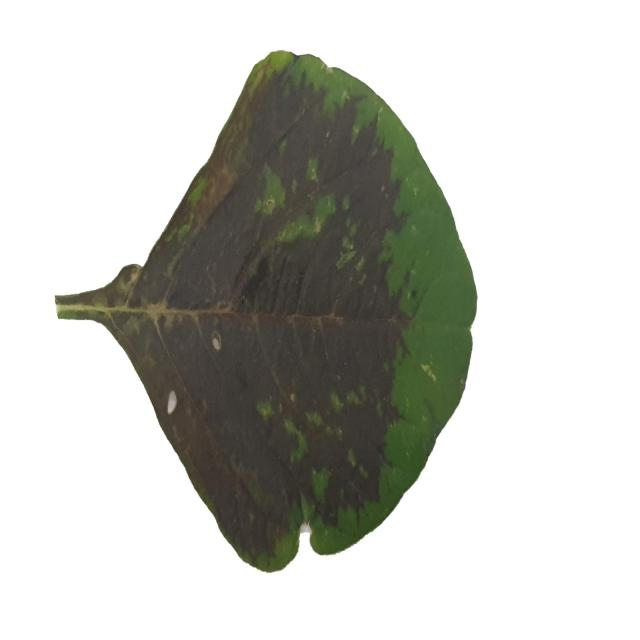Medicinal-Arive Dantu: (54, 46, 477, 573)
